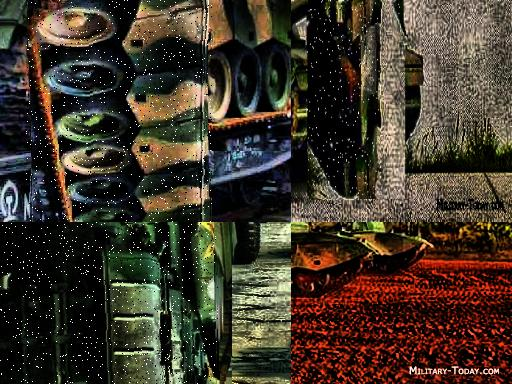tanks: (28, 1, 213, 223), (1, 223, 219, 384), (308, 1, 380, 199), (292, 223, 373, 296), (324, 223, 433, 274), (393, 1, 408, 36)
